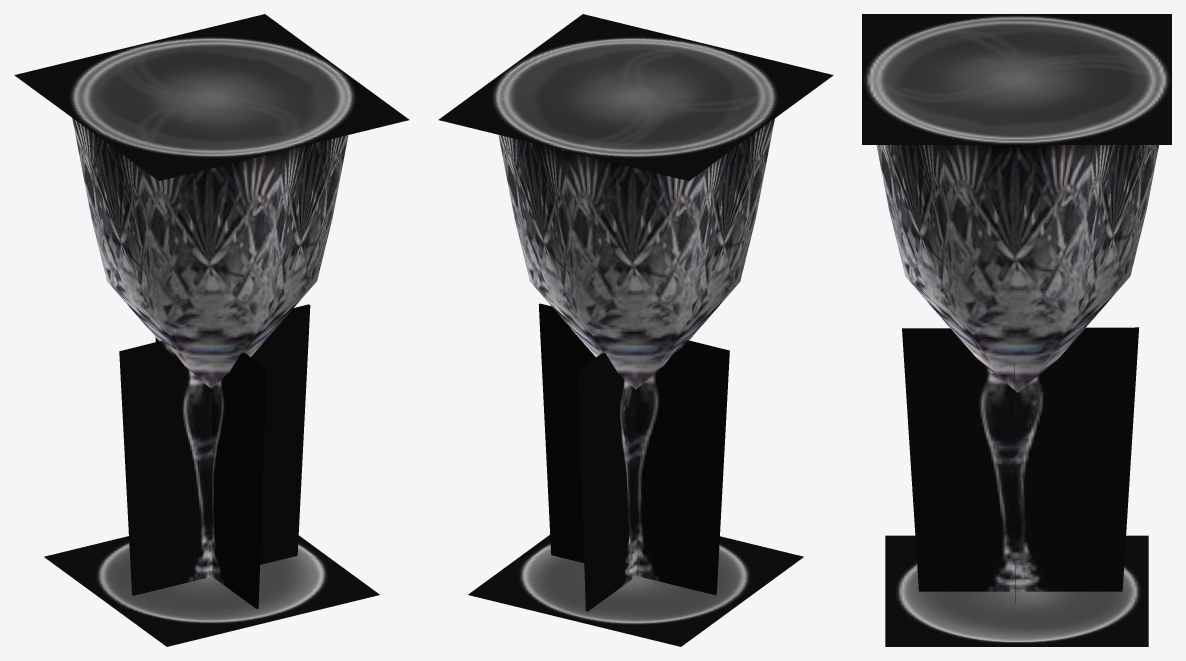
File: Water_Goblet.fbx
3 views of the same model, side by side, from view 1: azimuth 30°, elevation 25°; view 2: azimuth 150°, elevation 25°; view 3: azimuth 270°, elevation 25° (orthographic). The views are drawn at different scales.
Visible parts, largest first — view 1: Water_Goblet_LOD0; view 2: Water_Goblet_LOD0; view 3: Water_Goblet_LOD0.
Boxes of the visible parts, x1=… form: Water_Goblet_LOD0: x1=14, y1=14, x2=409, y2=646; Water_Goblet_LOD0: x1=438, y1=14, x2=833, y2=646; Water_Goblet_LOD0: x1=862, y1=14, x2=1171, y2=646.
Size of what is drawn, in the model's own units: 29.15 by 53.51 by 29.15.
